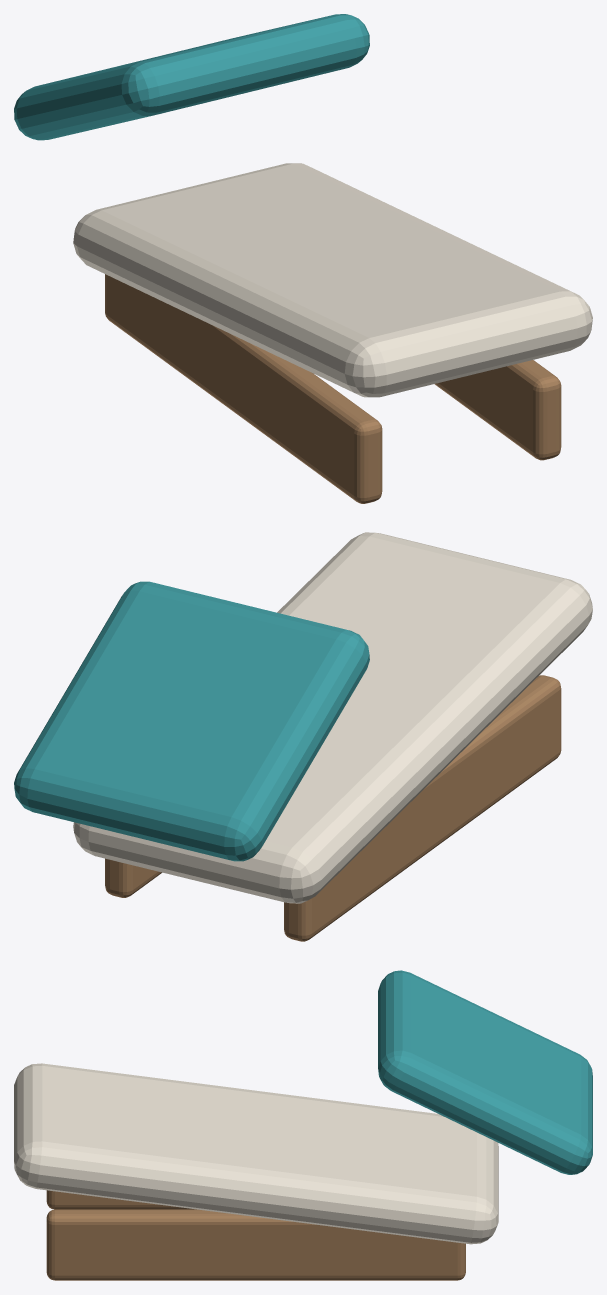
The picture shows the model from 3 angles, top to bottom: view 1: azimuth 30°, elevation 25°; view 2: azimuth 150°, elevation 25°; view 3: azimuth 270°, elevation 25°; orthographic projection. The views are drawn at different scales.
Visible parts, largest first — view 1: LOD0_SUN_LOUNGER_Bed, LOD0_SUN_LOUNGER_Leg, LOD0_SUN_LOUNGER_Back, LOD0_SUN_LOUNGER_Leg.001; view 2: LOD0_SUN_LOUNGER_Back, LOD0_SUN_LOUNGER_Bed, LOD0_SUN_LOUNGER_Leg, LOD0_SUN_LOUNGER_Leg.001; view 3: LOD0_SUN_LOUNGER_Bed, LOD0_SUN_LOUNGER_Back, LOD0_SUN_LOUNGER_Leg.001, LOD0_SUN_LOUNGER_Leg.
Boxes of the visible parts, x1=… form: LOD0_SUN_LOUNGER_Bed: x1=73, y1=163, x2=592, y2=397; LOD0_SUN_LOUNGER_Leg: x1=105, y1=274, x2=382, y2=503; LOD0_SUN_LOUNGER_Back: x1=14, y1=14, x2=369, y2=140; LOD0_SUN_LOUNGER_Leg.001: x1=434, y1=360, x2=561, y2=460; LOD0_SUN_LOUNGER_Back: x1=14, y1=581, x2=369, y2=861; LOD0_SUN_LOUNGER_Bed: x1=73, y1=532, x2=592, y2=903; LOD0_SUN_LOUNGER_Leg: x1=284, y1=675, x2=561, y2=941; LOD0_SUN_LOUNGER_Leg.001: x1=105, y1=858, x2=161, y2=897; LOD0_SUN_LOUNGER_Bed: x1=14, y1=1063, x2=498, y2=1244; LOD0_SUN_LOUNGER_Back: x1=378, y1=970, x2=592, y2=1174; LOD0_SUN_LOUNGER_Leg.001: x1=46, y1=1209, x2=465, y2=1280; LOD0_SUN_LOUNGER_Leg: x1=46, y1=1190, x2=196, y2=1209.
Size of what is drawn, in the model's own units: 0.82 by 0.9116 by 2.07.
